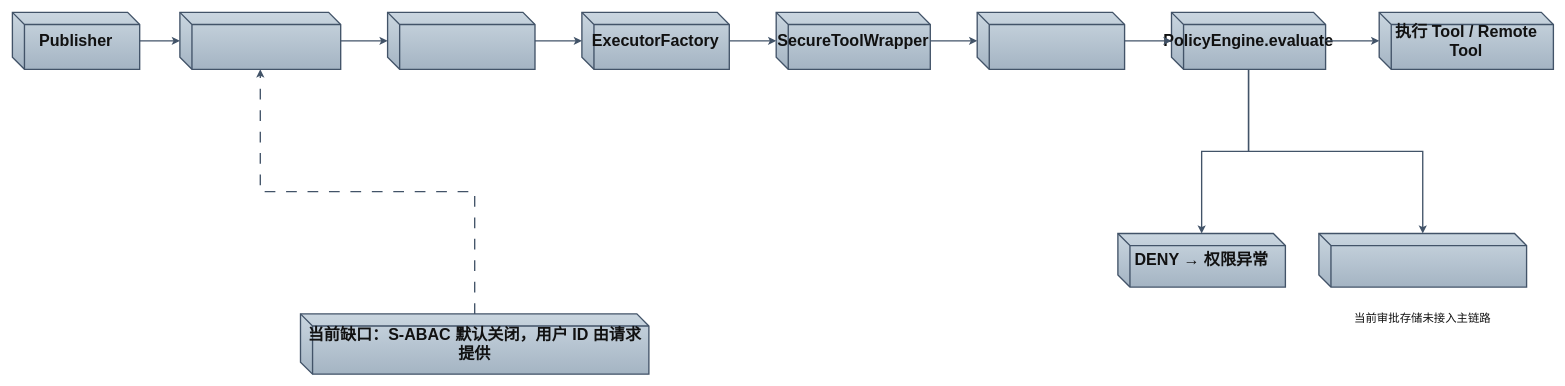
Some shapes in this 1565 by 386 pixel diagram are drawn without their labels. The shapes that lost their labels are listed below. From the top down, each one's centre as x and y in pixels, then its label:
At [260,40]: "Agent 调度权限检查".
At [461,40]: "Local / Remote Agent".
At [1050,40]: "工具调用权限检查".
At [1422,259]: "REVIEW REQUIRED".
